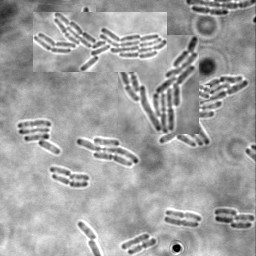Dividing: (52, 175, 89, 189), (128, 238, 157, 255), (166, 209, 202, 222), (164, 217, 200, 228), (192, 7, 229, 17)
Microcolony: (33, 12, 167, 72), (118, 35, 199, 134), (158, 76, 249, 147), (38, 5, 96, 39), (76, 137, 139, 168), (18, 120, 61, 155), (214, 208, 255, 229)
Rod: (121, 233, 150, 251), (78, 222, 99, 240), (186, 85, 210, 100), (50, 167, 72, 177), (69, 174, 90, 183)
